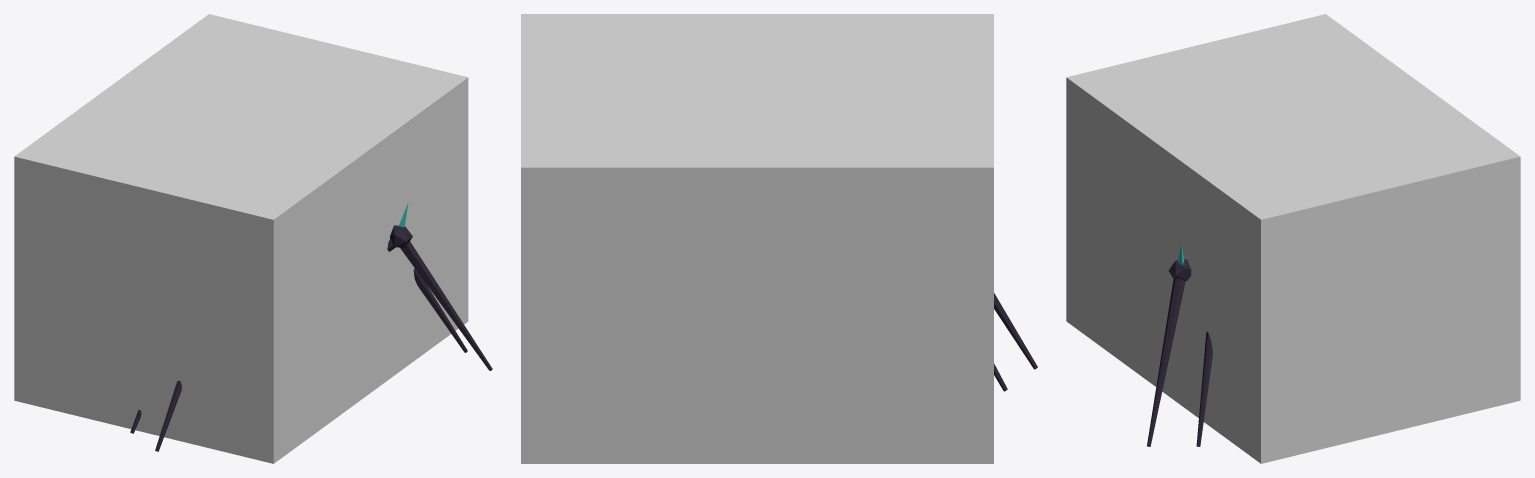
The model's file is plains_crystal_spider_matriarch.fbx.
3 renders of one model, left to right at view 1: azimuth 30°, elevation 25°; view 2: azimuth 150°, elevation 25°; view 3: azimuth 270°, elevation 25°, orthographic. The views are drawn at different scales.
Visible parts, largest first — view 1: Root__0.00_4.47_0.79__13.02_9.00_10.01, LegL1__Body__-1.20_3.50_-2.19, LegL2__Body__-1.20_3.50_-1.31; view 2: Root__0.00_4.47_0.79__13.02_9.00_10.01, LegR1__Body__1.20_3.50_-2.19; view 3: Root__0.00_4.47_0.79__13.02_9.00_10.01, LegL1__Body__-1.20_3.50_-2.19, LegL2__Body__-1.20_3.50_-1.31.
Part boxes in pixels (x1,y1,x2,y2): Root__0.00_4.47_0.79__13.02_9.00_10.01: [14, 14, 468, 463]; LegL1__Body__-1.20_3.50_-2.19: [387, 203, 492, 370]; LegL2__Body__-1.20_3.50_-1.31: [413, 268, 467, 352]; Root__0.00_4.47_0.79__13.02_9.00_10.01: [521, 14, 993, 463]; LegR1__Body__1.20_3.50_-2.19: [994, 293, 1037, 369]; Root__0.00_4.47_0.79__13.02_9.00_10.01: [1066, 14, 1520, 463]; LegL1__Body__-1.20_3.50_-2.19: [1147, 242, 1191, 446]; LegL2__Body__-1.20_3.50_-1.31: [1196, 331, 1212, 446].
Size of the model in its own units: 456 by 252 by 425.
2 materials, 1 textured.
